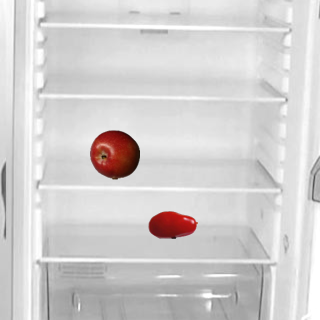Apple Braeburn: (89, 129, 139, 179)
Tomato 2: (147, 199, 197, 249)
